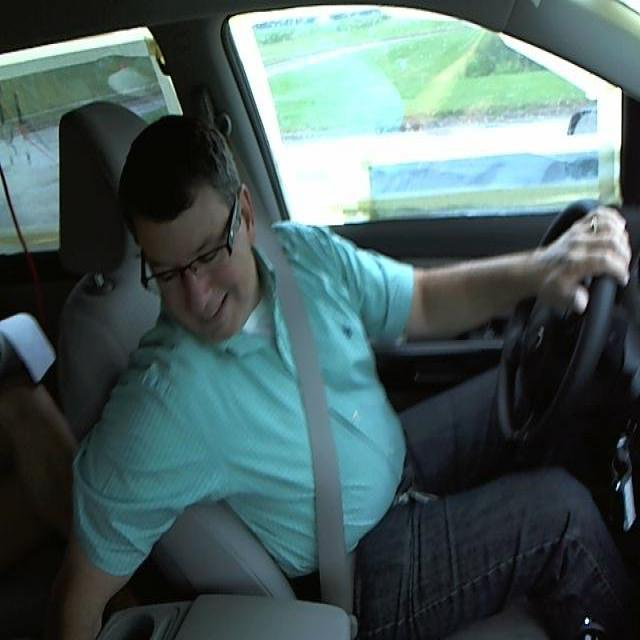seatbelt: (265, 259, 359, 596)
